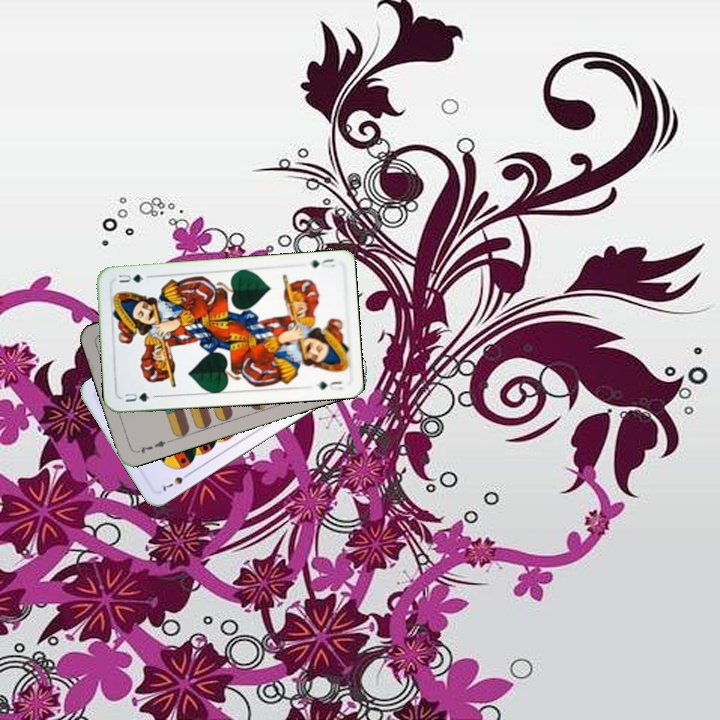E7: (132, 436, 172, 456)
GU: (304, 255, 337, 271), (121, 388, 152, 405)
S7: (157, 468, 194, 494)
